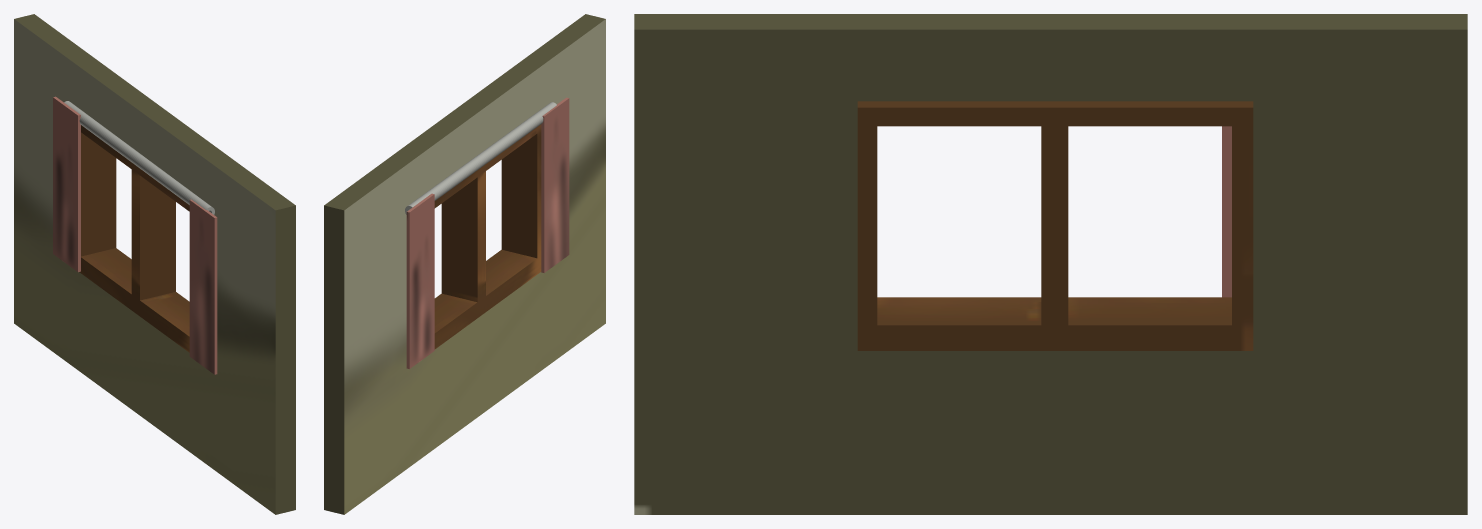
The model's file is muur met raam.fbx.
3 renders of one model, left to right at view 1: azimuth 30°, elevation 25°; view 2: azimuth 150°, elevation 25°; view 3: azimuth 270°, elevation 25°, orthographic. The views are drawn at different scales.
Visible parts, largest first — view 1: Cube, Cube.001, Cube.002, Cylinder; view 2: Cube, Cube.001, Cube.002, Cylinder; view 3: Cube, Cube.001, Cube.002.
Boxes of the visible parts, left/top/right/bottom form: Cube: left=14, top=14, right=295, bottom=514; Cube.001: left=79, top=125, right=189, bottom=352; Cube.002: left=53, top=96, right=217, bottom=374; Cylinder: left=64, top=101, right=214, bottom=214; Cube: left=324, top=14, right=605, bottom=514; Cube.001: left=434, top=124, right=541, bottom=349; Cube.002: left=406, top=97, right=569, bottom=368; Cylinder: left=405, top=102, right=556, bottom=214; Cube: left=634, top=14, right=1467, bottom=514; Cube.001: left=857, top=101, right=1253, bottom=350; Cube.002: left=1222, top=126, right=1231, bottom=297.
Size of the model in its own units: 117 by 824 by 1283.
Materials: 4 (4 with a texture image).
